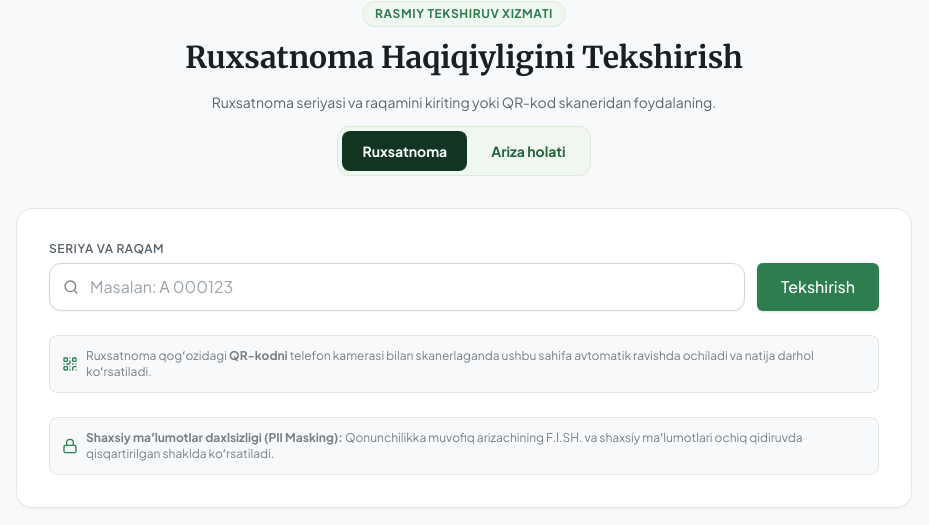
Test case: VerifyPage — tab switcher › switches between the permit and application arms
Step 1. Click the tab "Ariza holati" → (528, 151), box [471, 131, 586, 171]
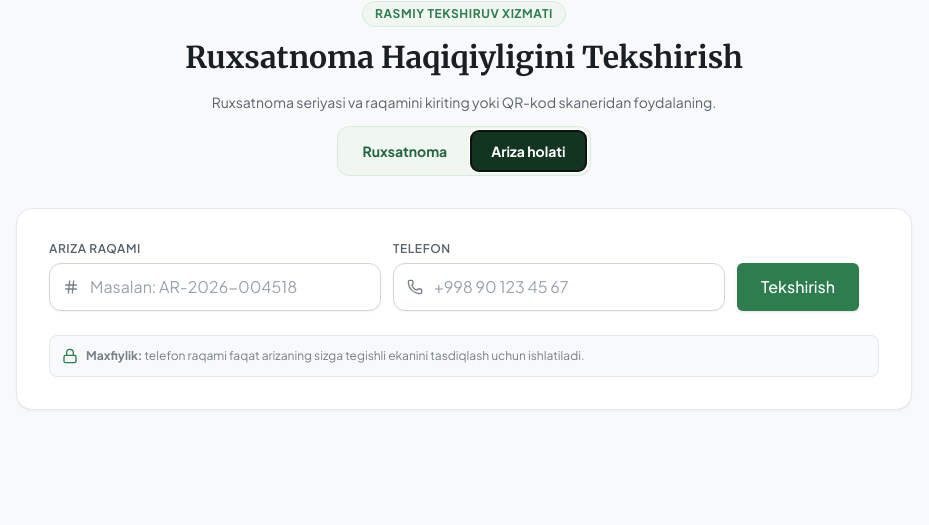
Result: the field labelled "Ariza raqami" is shown at [49, 263, 381, 311]
Step 2. Click the tab "Ruxsatnoma" → (405, 151), box [342, 131, 467, 171]
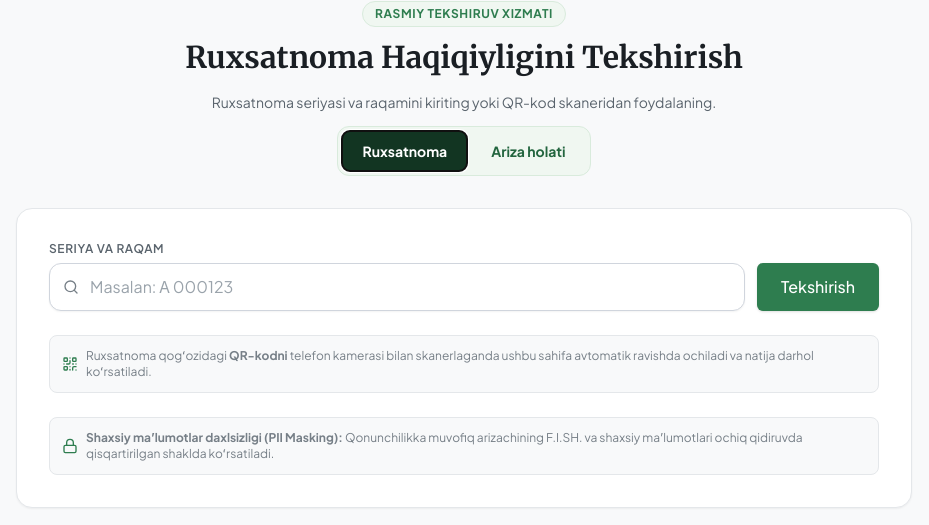
Result: the field labelled "Seriya va raqam" is shown at [49, 263, 745, 311]
Result: the text labelled "Ariza raqami" is gone
